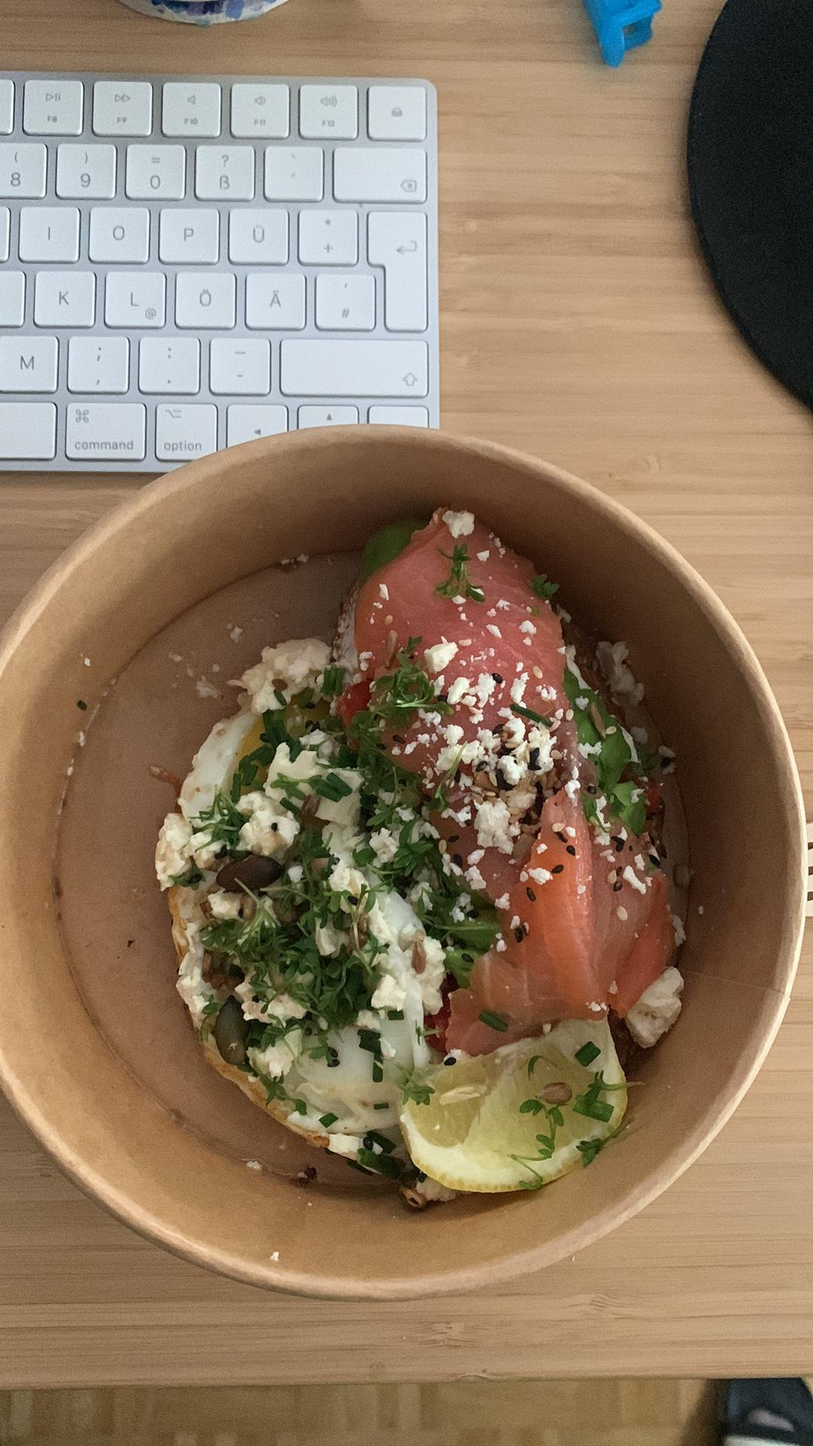lemon: (403, 1004, 623, 1192)
